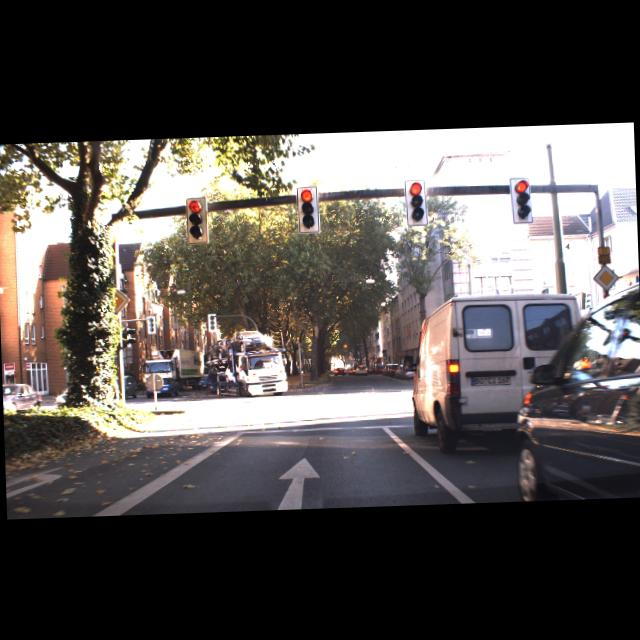other: (592, 262, 619, 290)
